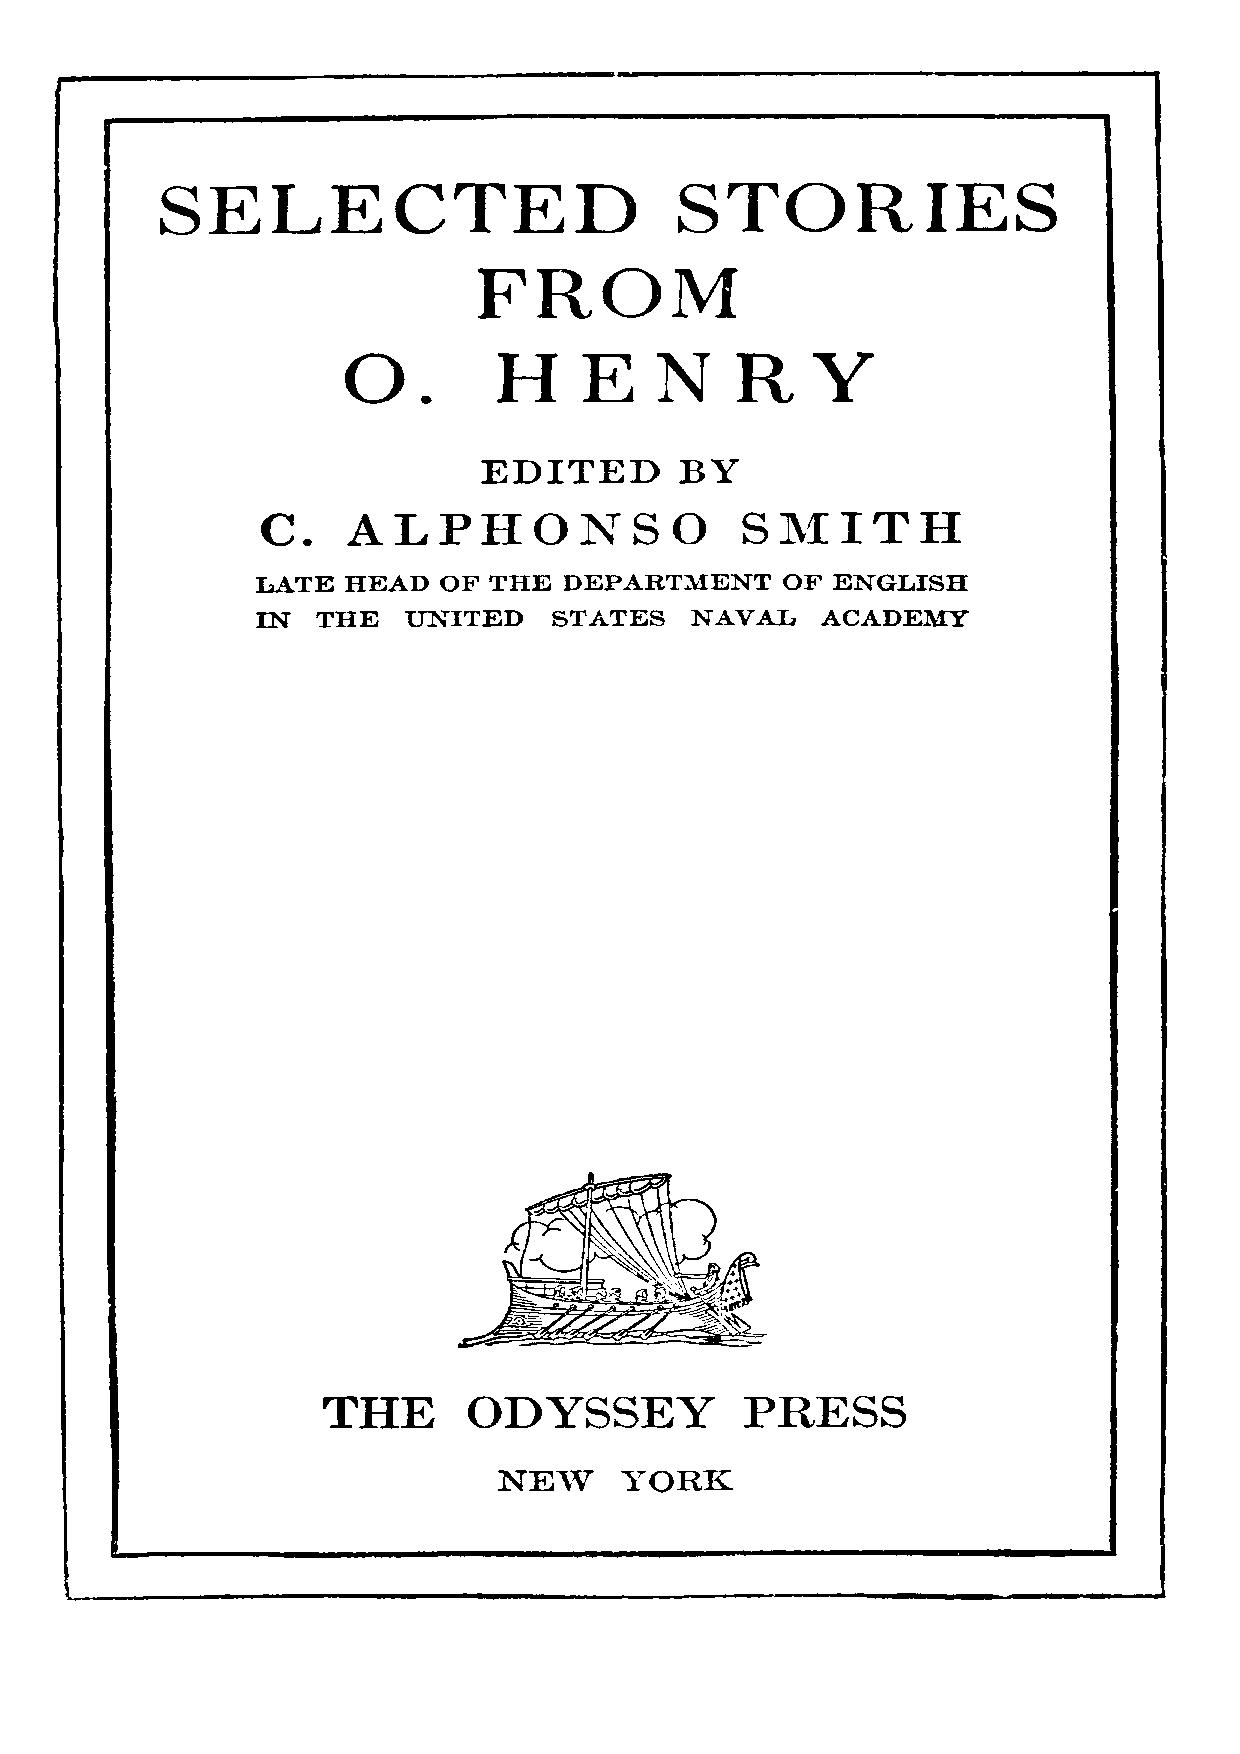author: (254, 507, 965, 548)
title: (156, 183, 1056, 407)
